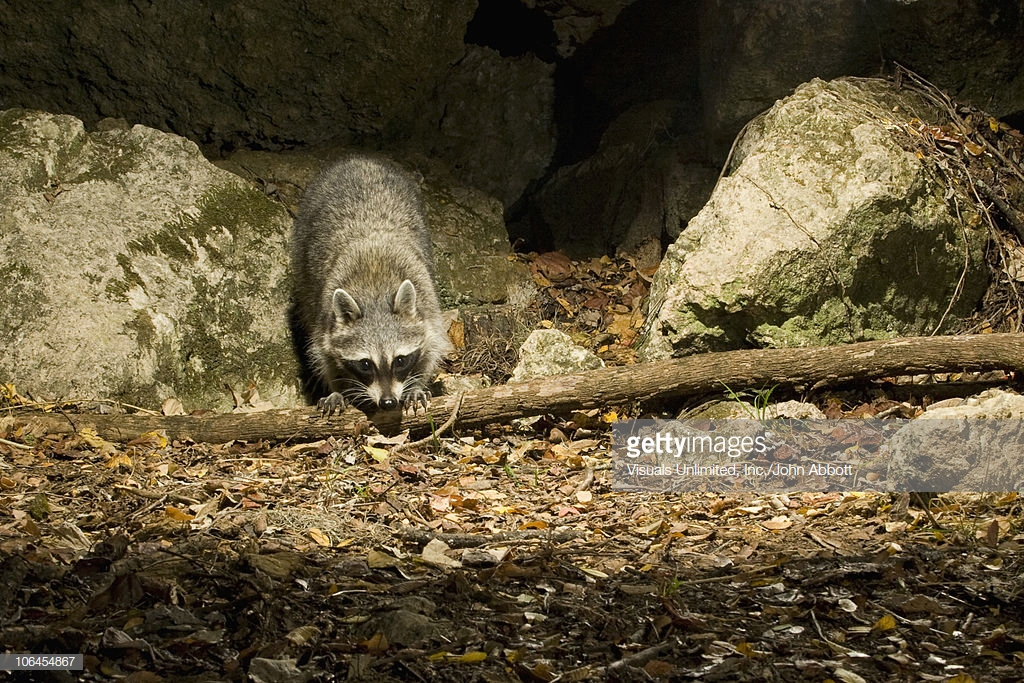raccoon: (271, 134, 456, 458)
